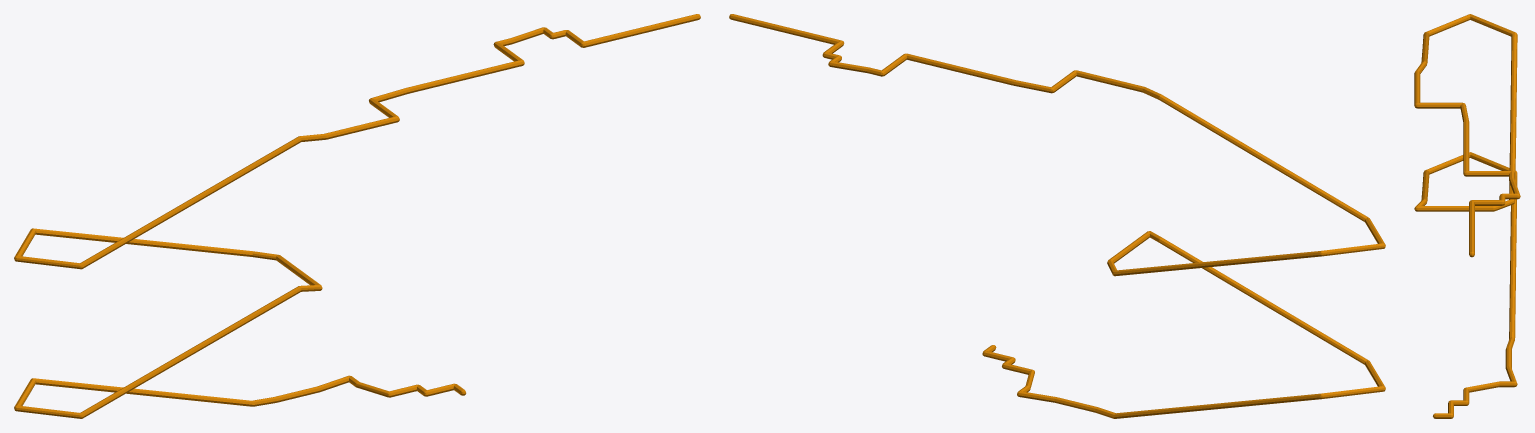
3 renders of one model, left to right at view 1: azimuth 30°, elevation 25°; view 2: azimuth 150°, elevation 25°; view 3: azimuth 270°, elevation 25°, orthographic. The views are drawn at different scales.
Size of the model in its own units: 2402 by 1020 by 349.
